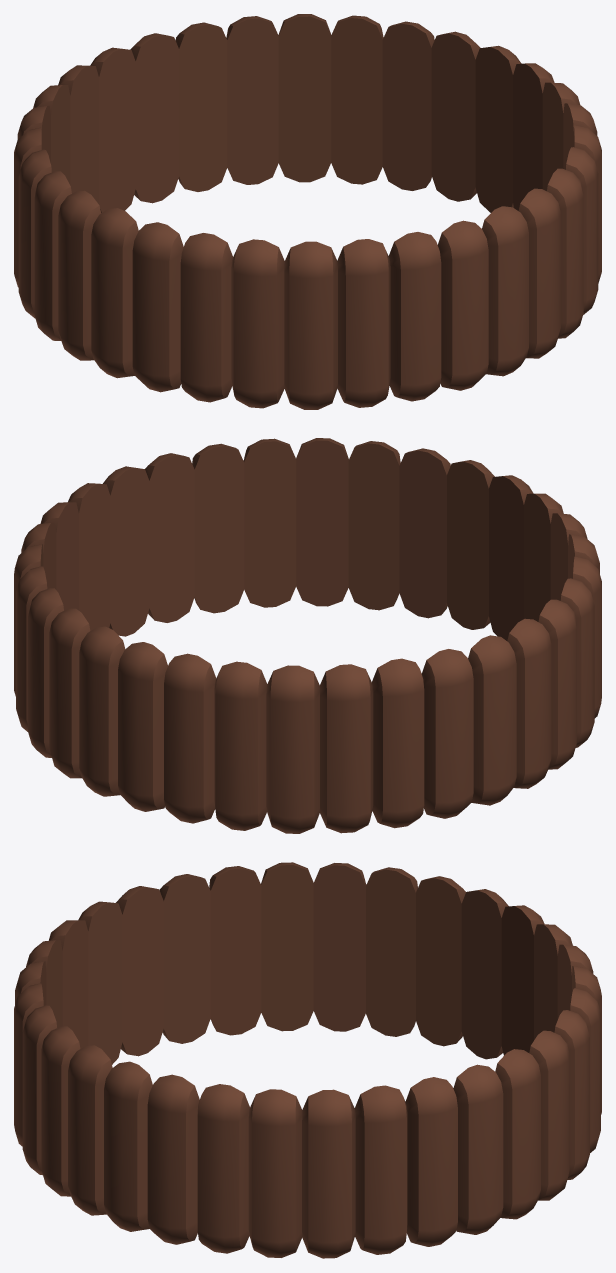
Rendered from DiskatmanCikolata.fbx.
3 renders of one model, top to bottom at view 1: azimuth 30°, elevation 25°; view 2: azimuth 150°, elevation 25°; view 3: azimuth 270°, elevation 25°, orthographic.
Visible parts, largest first — view 1: pCylinder172, pCylinder188, pCylinder187, pCylinder189, pCylinder171, pCylinder173, pCylinder186, pCylinder190, pCylinder170, pCylinder174, pCylinder185, pCylinder159 (+20 smaller); view 2: pCylinder177, pCylinder178, pCylinder161, pCylinder162, pCylinder176, pCylinder160, pCylinder179, pCylinder163, pCylinder175, pCylinder180, pCylinder159, pCylinder164 (+20 smaller); view 3: pCylinder166, pCylinder167, pCylinder183, pCylinder182, pCylinder168, pCylinder184, pCylinder165, pCylinder169, pCylinder164, pCylinder181, pCylinder185, pCylinder180 (+20 smaller).
Part boxes in pixels (x1,y1,x2,y2): pCylinder172: [278, 14, 331, 182]; pCylinder188: [284, 241, 337, 409]; pCylinder187: [231, 239, 284, 408]; pCylinder189: [337, 239, 390, 407]; pCylinder171: [331, 15, 383, 184]; pCylinder173: [226, 16, 278, 184]; pCylinder186: [180, 233, 232, 402]; pCylinder190: [388, 232, 441, 401]; pCylinder170: [382, 21, 434, 190]; pCylinder174: [175, 22, 227, 191]; pCylinder185: [132, 222, 183, 392]; pCylinder159: [437, 220, 488, 390]; pCylinder177: [266, 665, 319, 833]; pCylinder178: [320, 664, 373, 833]; pCylinder161: [296, 438, 348, 606]; pCylinder162: [243, 438, 296, 607]; pCylinder176: [214, 661, 267, 830]; pCylinder160: [348, 441, 400, 610]; pCylinder179: [372, 658, 424, 828]; pCylinder163: [192, 443, 244, 613]; pCylinder175: [164, 653, 216, 823]; pCylinder180: [421, 649, 473, 818]; pCylinder159: [399, 448, 450, 618]; pCylinder164: [145, 453, 194, 622]; pCylinder166: [248, 1089, 302, 1257]; pCylinder167: [302, 1089, 355, 1258]; pCylinder183: [261, 862, 313, 1031]; pCylinder182: [313, 863, 366, 1031]; pCylinder168: [354, 1085, 407, 1254]; pCylinder184: [209, 866, 261, 1035]; pCylinder165: [197, 1084, 249, 1253]; pCylinder169: [405, 1077, 457, 1246]; pCylinder164: [147, 1074, 199, 1244]; pCylinder181: [366, 867, 417, 1036]; pCylinder185: [159, 874, 210, 1043]; pCylinder180: [416, 876, 465, 1046].
Size of the model in its own units: 1.99 by 0.6191 by 1.99.
